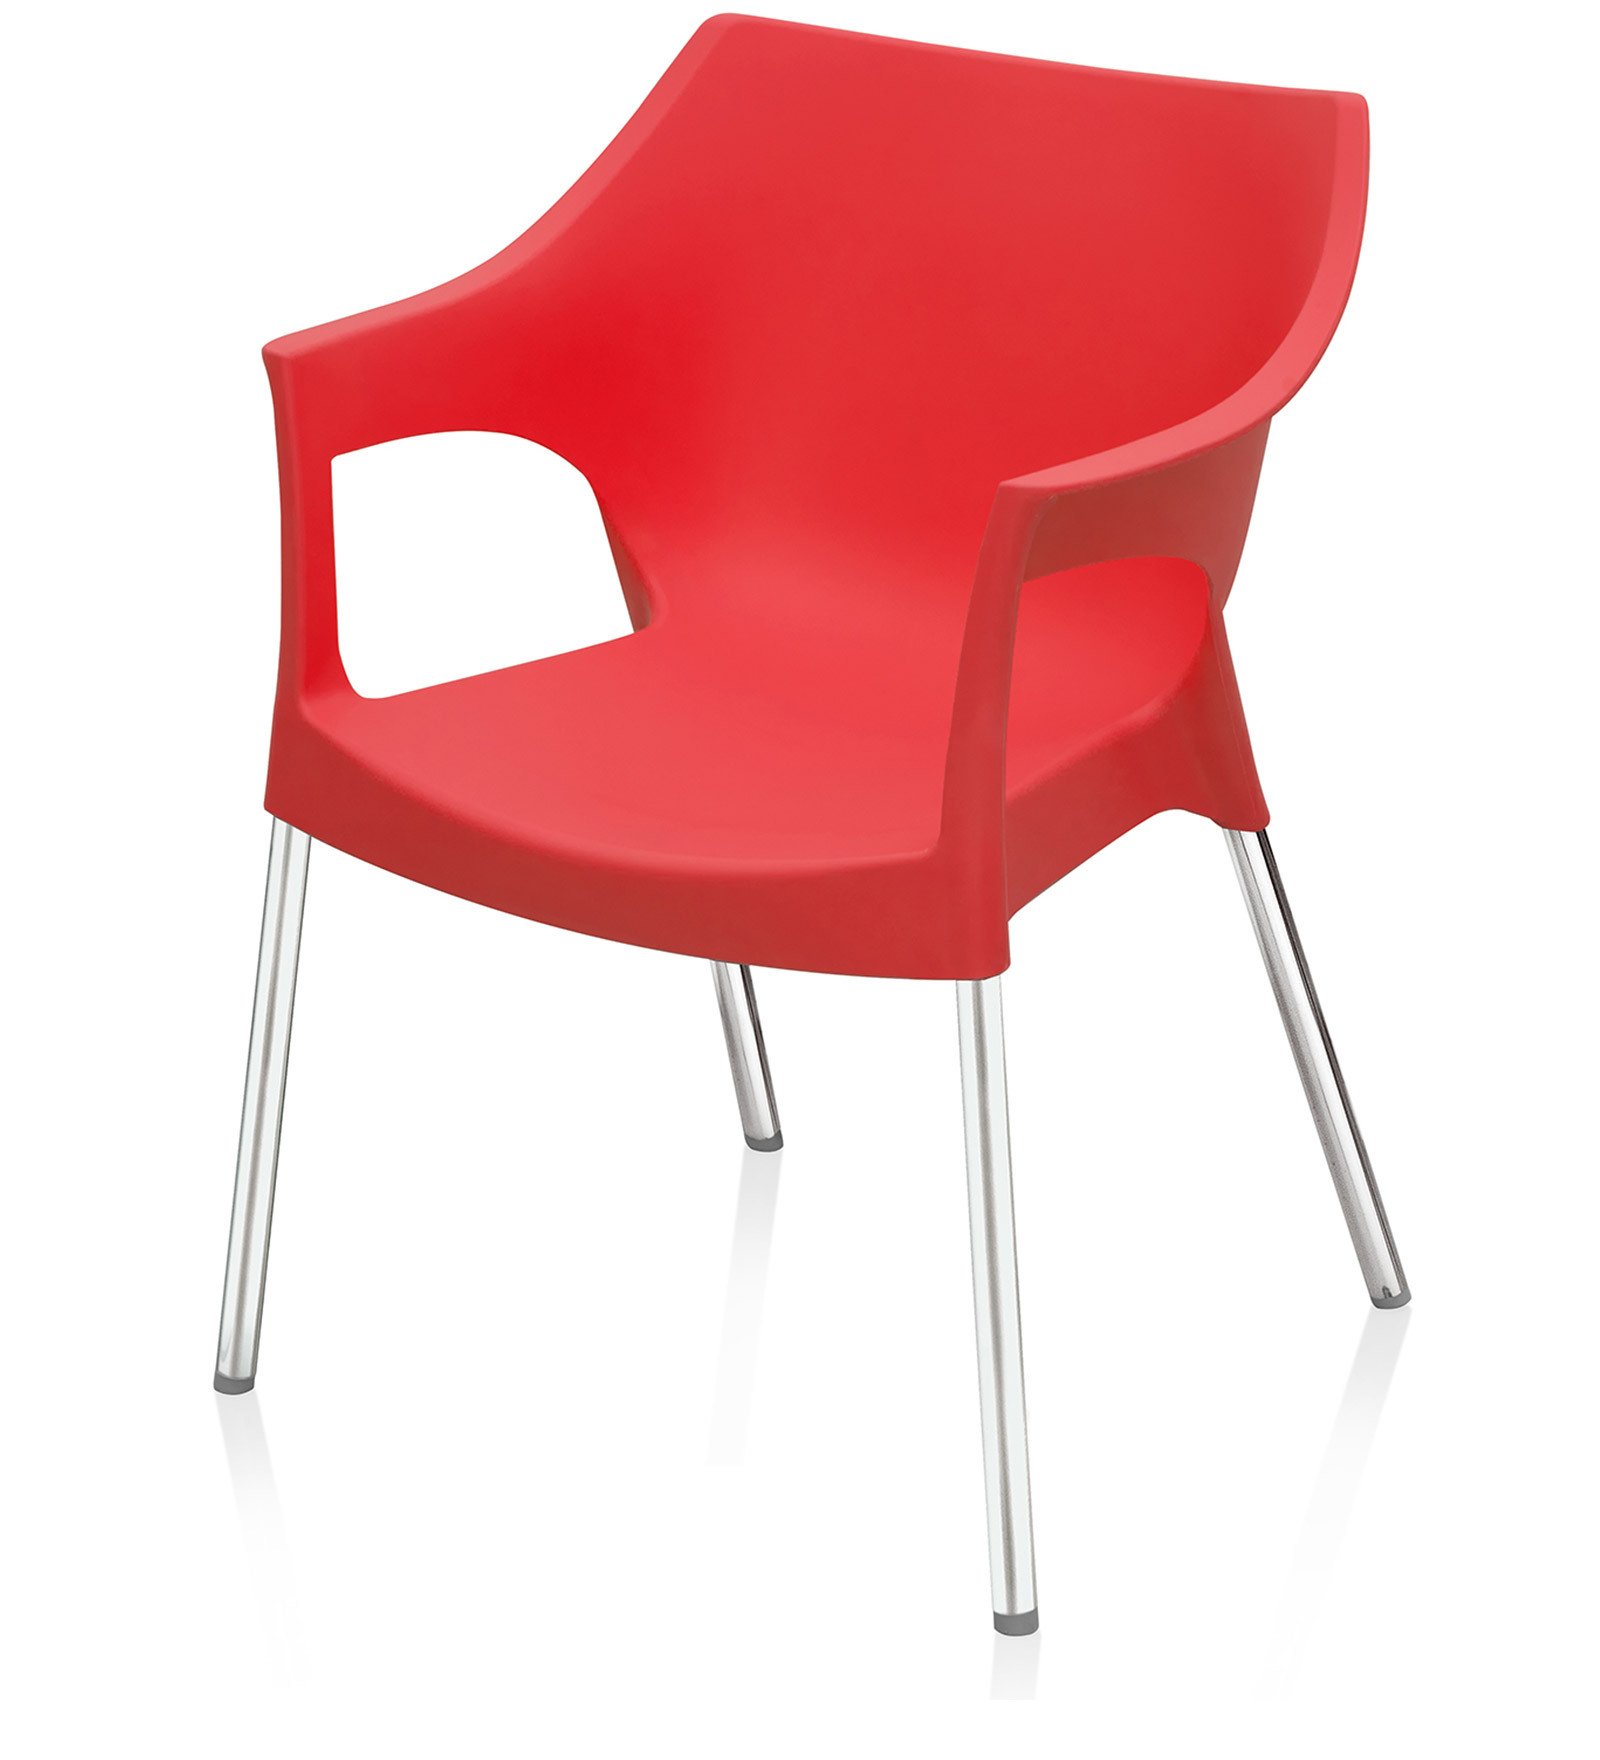Novella Series - 10 Set of 2 Chairs in Red Color by Nilkamal: (208, 12, 1416, 1640)
